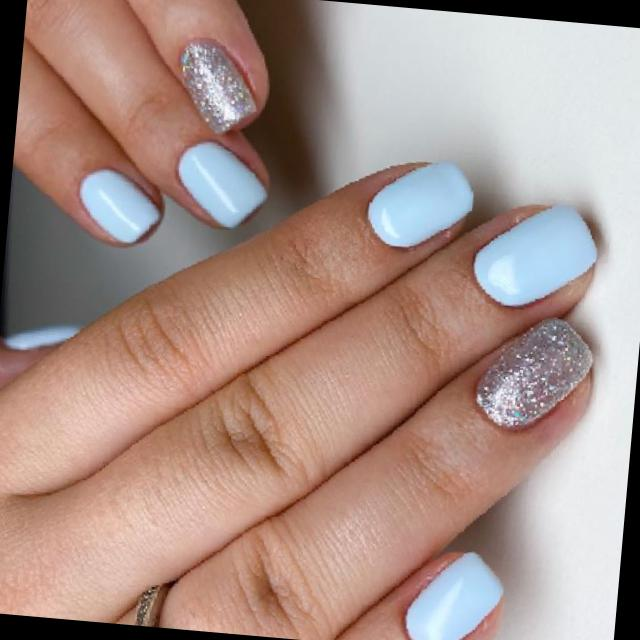Nail: (474, 204, 596, 305), (477, 318, 591, 426), (368, 161, 472, 245), (405, 552, 503, 640), (178, 140, 266, 226), (180, 39, 255, 132), (79, 168, 160, 241)
